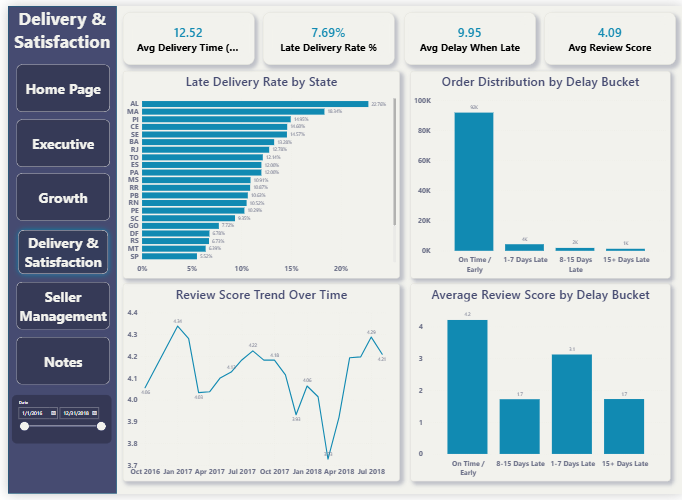

What the dashboard file says about the page in this screenshot:
{"tool":"powerbi","page":{"name":"Delivery & Satisfaction","canvas":[1800,1300],"ordinal":3},"visuals":[{"type":"shape","box":[0,0,290,1300],"z":0},{"type":"cardVisual","fields":{"Data":["Measure Table.Avg Delivery Time (Days)"]},"box":[305,15,350.4,140],"z":0,"group":"g1"},{"type":"group","id":"g1","title":"Group 1","box":[305,15,1472.5,140],"z":1000},{"type":"cardVisual","fields":{"Data":["Measure Table.Late Delivery Rate %"]},"box":[679.6,15,350.4,140],"z":1000,"group":"g1"},{"type":"cardVisual","fields":{"Data":["Measure Table.Avg Delay When Late"]},"box":[1054.1,15,350.4,140],"z":2000,"group":"g1"},{"type":"clusteredBarChart","title":"Late Delivery Rate by State","fields":{"Category":["customers.customer_state"],"Y":["Measure Table.Late Delivery Rate %"]},"box":[305,172.5,737.5,552.5],"z":2000},{"type":"actionButton","title":"Home Page","box":[12.9,872,267,145],"z":2000,"group":"g2"},{"type":"cardVisual","fields":{"Data":["Measure Table.Avg Review Score"]},"box":[1428.7,15,350.4,140],"z":3000,"group":"g1"},{"type":"clusteredColumnChart","title":"Order Distribution by Delay Bucket","fields":{"Category":["orders.Delay Bucket"],"Y":["CountNonNull(orders.order_id)"]},"box":[1072.5,172.5,692.5,552.5],"z":3000},{"type":"actionButton","title":"Home Page","box":[12.4,146,267.5,145],"z":4000,"group":"g2"},{"type":"lineChart","title":"Review Score Trend Over Time","fields":{"Category":["Date.Year-Month"],"Y":["Measure Table.Avg Review Score (by Review Date)"]},"box":[305,740,737.5,527.5],"z":4000},{"type":"actionButton","title":"Home Page","box":[12.7,291.2,267.5,145],"z":5000,"group":"g2"},{"type":"clusteredColumnChart","title":"Average Review Score by Delay Bucket","fields":{"Category":["orders.Delay Bucket"],"Y":["Measure Table.Avg Review Score"]},"box":[1072.5,740,692.5,527.5],"z":5000},{"type":"actionButton","title":"Home Page","box":[12.3,436.4,267.5,145],"z":6000,"group":"g2"},{"type":"slicer","fields":{"Values":["Date.Date"]},"box":[10,1036,266,130],"z":6000},{"type":"group","id":"g2","title":"Group 2","box":[12,146,268,872],"z":7000},{"type":"actionButton","title":"Home Page","box":[12,581.6,267.5,145],"z":7000,"group":"g2"},{"type":"actionButton","title":"Home Page","box":[12.6,726.8,267,145],"z":8000,"group":"g2"}]}

Visuals, with their boxes in screenshot pixels (x1, y1, x2, y2), scaled from the page's 1800x1300 canvas onto the 682x500 screenshot:
shape: [x1=0, y1=0, x2=110, y2=499]
cardVisual - Measure Table.Avg Delivery Time (Days): [x1=116, y1=6, x2=248, y2=60]
"Group 1" group: [x1=116, y1=6, x2=673, y2=60]
cardVisual - Measure Table.Late Delivery Rate %: [x1=257, y1=6, x2=390, y2=60]
cardVisual - Measure Table.Avg Delay When Late: [x1=399, y1=6, x2=532, y2=60]
"Late Delivery Rate by State" clusteredBarChart: [x1=116, y1=66, x2=395, y2=279]
"Home Page" actionButton: [x1=5, y1=335, x2=106, y2=391]
cardVisual - Measure Table.Avg Review Score: [x1=541, y1=6, x2=674, y2=60]
"Order Distribution by Delay Bucket" clusteredColumnChart: [x1=406, y1=66, x2=669, y2=279]
"Home Page" actionButton: [x1=5, y1=56, x2=106, y2=112]
"Review Score Trend Over Time" lineChart: [x1=116, y1=285, x2=395, y2=488]
"Home Page" actionButton: [x1=5, y1=112, x2=106, y2=168]
"Average Review Score by Delay Bucket" clusteredColumnChart: [x1=406, y1=285, x2=669, y2=488]
"Home Page" actionButton: [x1=5, y1=168, x2=106, y2=224]
slicer - Date.Date: [x1=4, y1=398, x2=105, y2=448]
"Group 2" group: [x1=5, y1=56, x2=106, y2=392]
"Home Page" actionButton: [x1=5, y1=224, x2=106, y2=279]
"Home Page" actionButton: [x1=5, y1=280, x2=106, y2=335]
